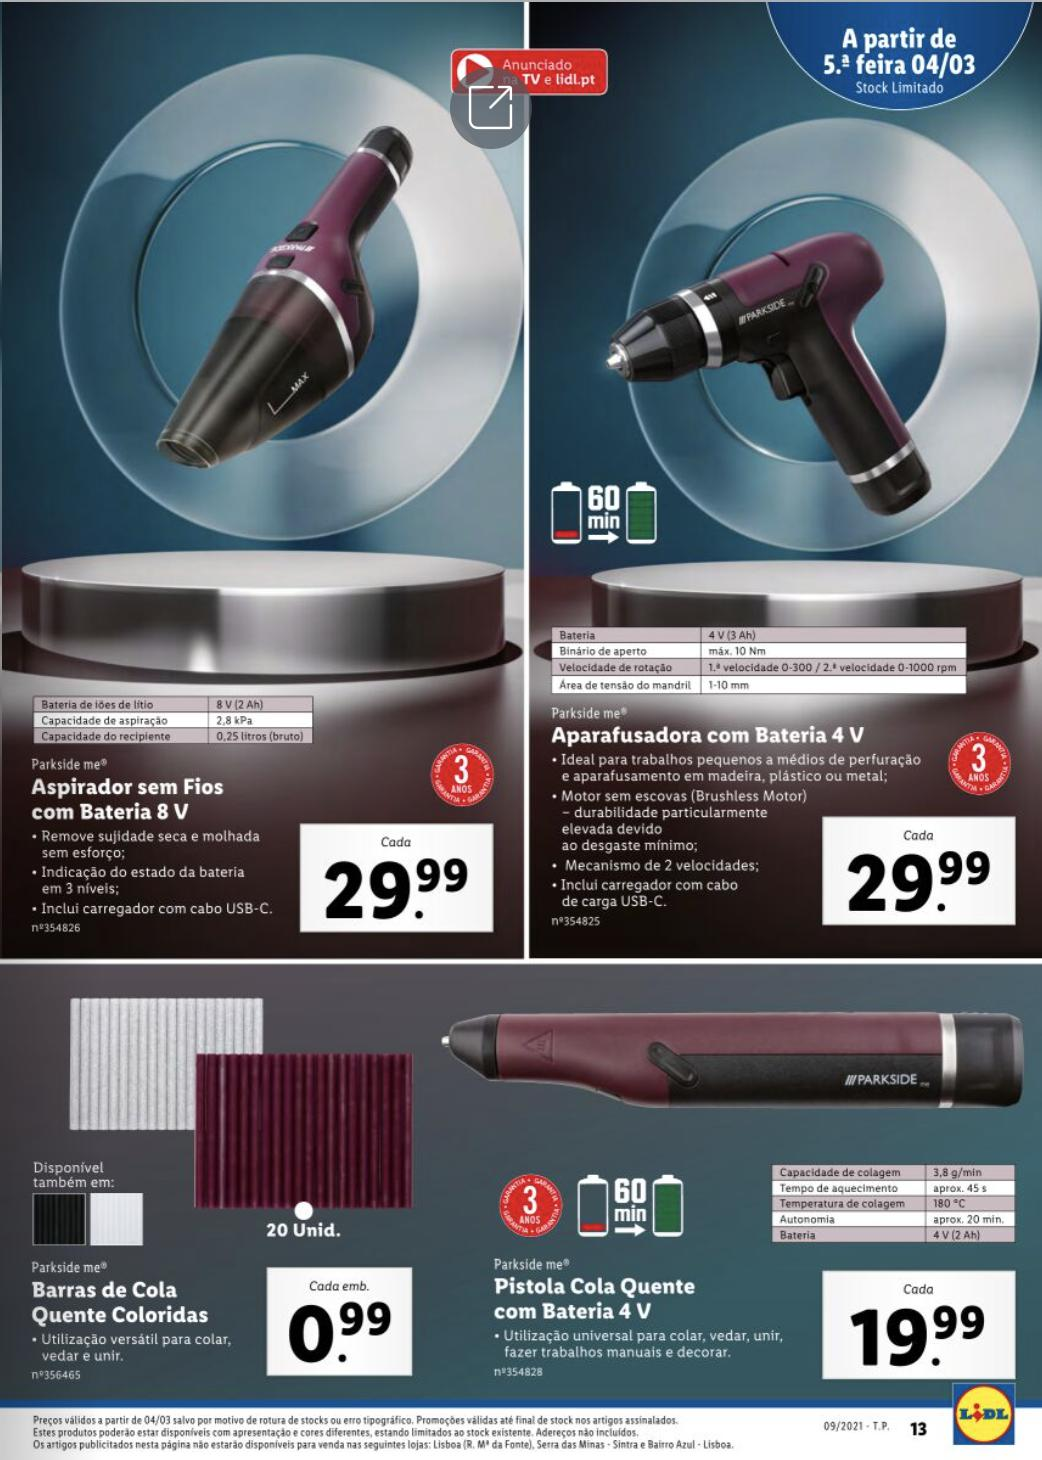name: (24, 1276, 217, 1331), (482, 1276, 699, 1324), (548, 722, 878, 751), (28, 776, 221, 824)
price: (317, 847, 475, 920), (844, 847, 994, 914), (846, 1302, 984, 1368), (284, 1297, 399, 1368)
product: (15, 109, 513, 947), (542, 120, 1022, 943), (457, 980, 1033, 1380), (15, 977, 441, 1382)
